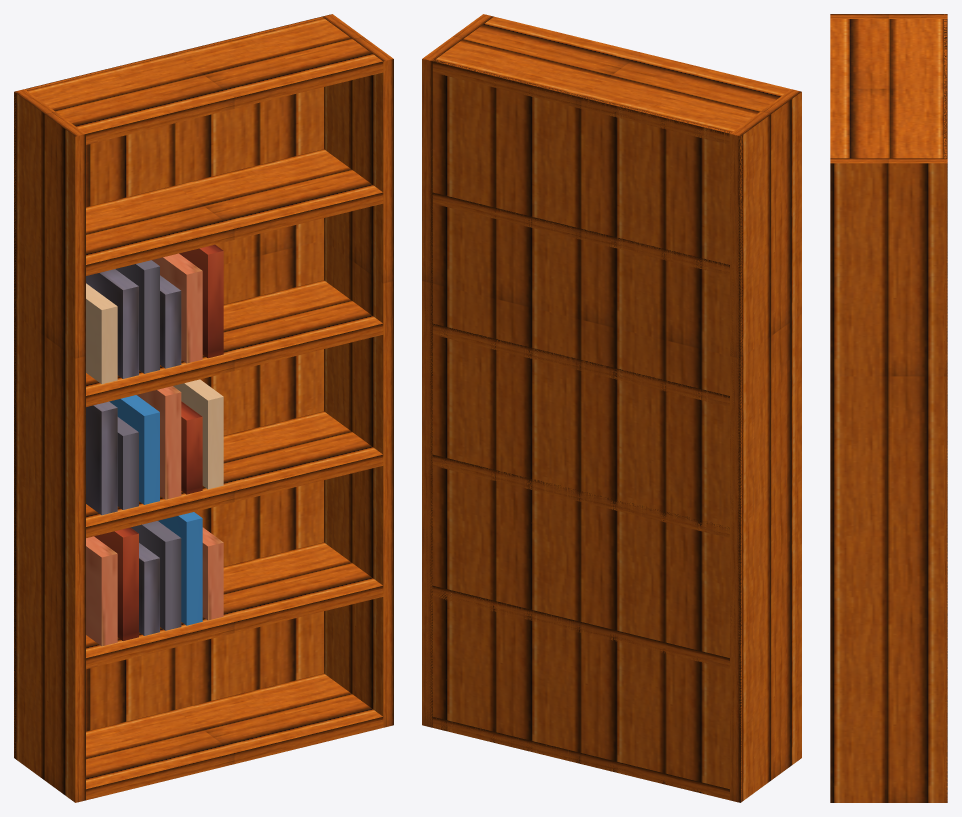
File: Bookshelf.fbx
The picture shows the model from 3 angles, left to right: view 1: azimuth 30°, elevation 25°; view 2: azimuth 150°, elevation 25°; view 3: azimuth 270°, elevation 25°; orthographic projection. The views are drawn at different scales.
Visible parts, largest first — view 1: Bookshelf; view 2: Bookshelf; view 3: Bookshelf.
Part boxes in pixels (box(x1,y1,x2,y2)): Bookshelf: box(14, 14, 393, 802); Bookshelf: box(422, 14, 801, 802); Bookshelf: box(830, 14, 947, 802).
Bounding box in the file's own units: 0.9 × 1.8 × 0.3.
